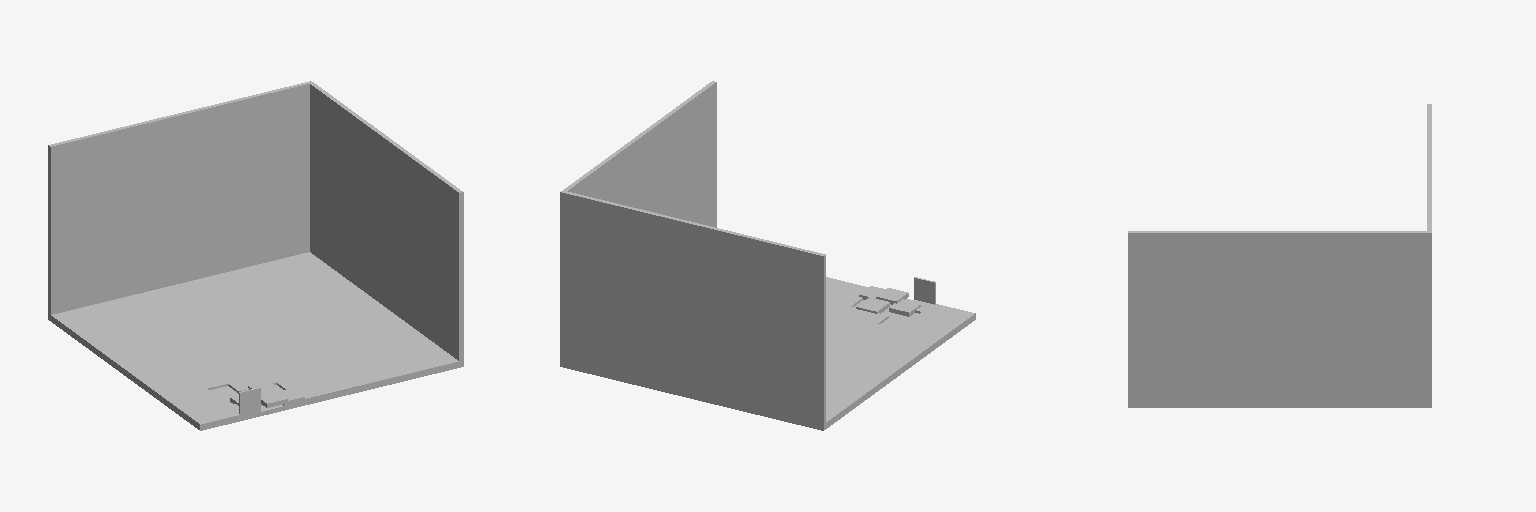
The model's file is 4x2 second (1)-6.obj.
3 views of the same model, side by side, from view 1: azimuth 30°, elevation 25°; view 2: azimuth 150°, elevation 25°; view 3: azimuth 270°, elevation 25° (orthographic).
Parts seen in each view (by area): view 1: 4x2 second (1)-6; view 2: 4x2 second (1)-6; view 3: 4x2 second (1)-6.
Boxes of the visible parts, x1,y1,x2,y2 form: 4x2 second (1)-6: [48, 81, 463, 430]; 4x2 second (1)-6: [560, 81, 975, 430]; 4x2 second (1)-6: [1128, 104, 1431, 407].
Size of the model in its own units: 126 by 80 by 126.